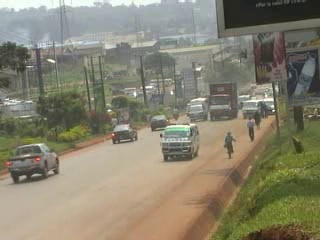Car: (107, 120, 140, 145), (147, 112, 173, 132)
Motorcycle: (169, 106, 182, 121)
